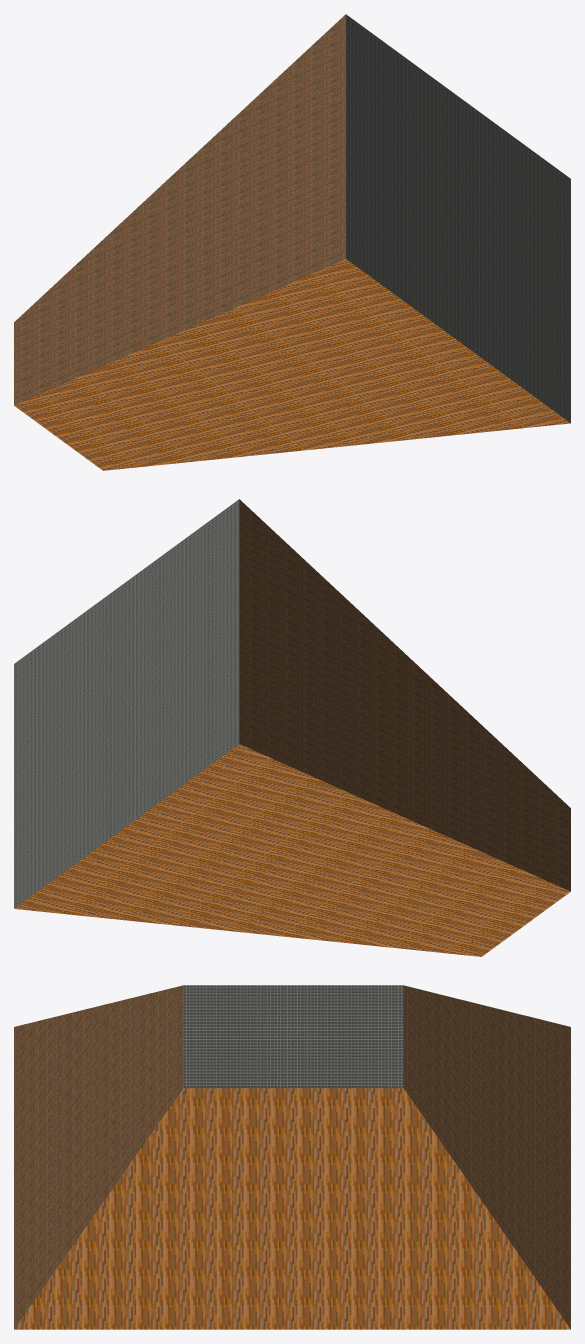
Rendered from RoomTrapez.gltf.
The picture shows the model from 3 angles, top to bottom: view 1: azimuth 30°, elevation 25°; view 2: azimuth 150°, elevation 25°; view 3: azimuth 270°, elevation 25°; orthographic projection. The views are drawn at different scales.
Visible parts, largest first — view 1: ParquetOnConcrete, GlassThick, BrickBare; view 2: ParquetOnConcrete, GlassThick, BrickBare; view 3: ParquetOnConcrete, BrickBare, GlassThick.
Part boxes in pixels (bbox=[...]): ParquetOnConcrete: bbox=[14, 259, 570, 470]; GlassThick: bbox=[346, 14, 570, 422]; BrickBare: bbox=[14, 14, 345, 405]; ParquetOnConcrete: bbox=[14, 744, 570, 956]; GlassThick: bbox=[14, 499, 239, 908]; BrickBare: bbox=[239, 499, 570, 891]; ParquetOnConcrete: bbox=[14, 1088, 570, 1329]; BrickBare: bbox=[14, 985, 570, 1328]; GlassThick: bbox=[183, 985, 403, 1088].
Bounding box in the file's own units: 25.86 × 15.13 × 25.24.
Materials: 3 (3 with a texture image).
